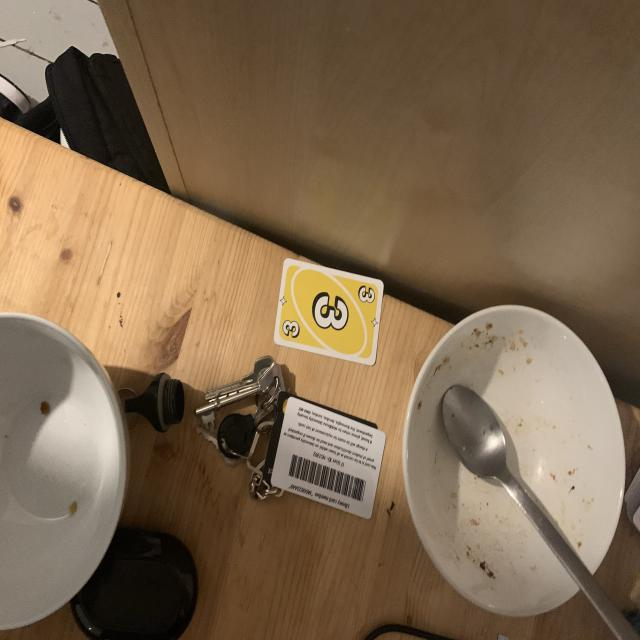lyellow-3: (280, 314, 303, 342)
